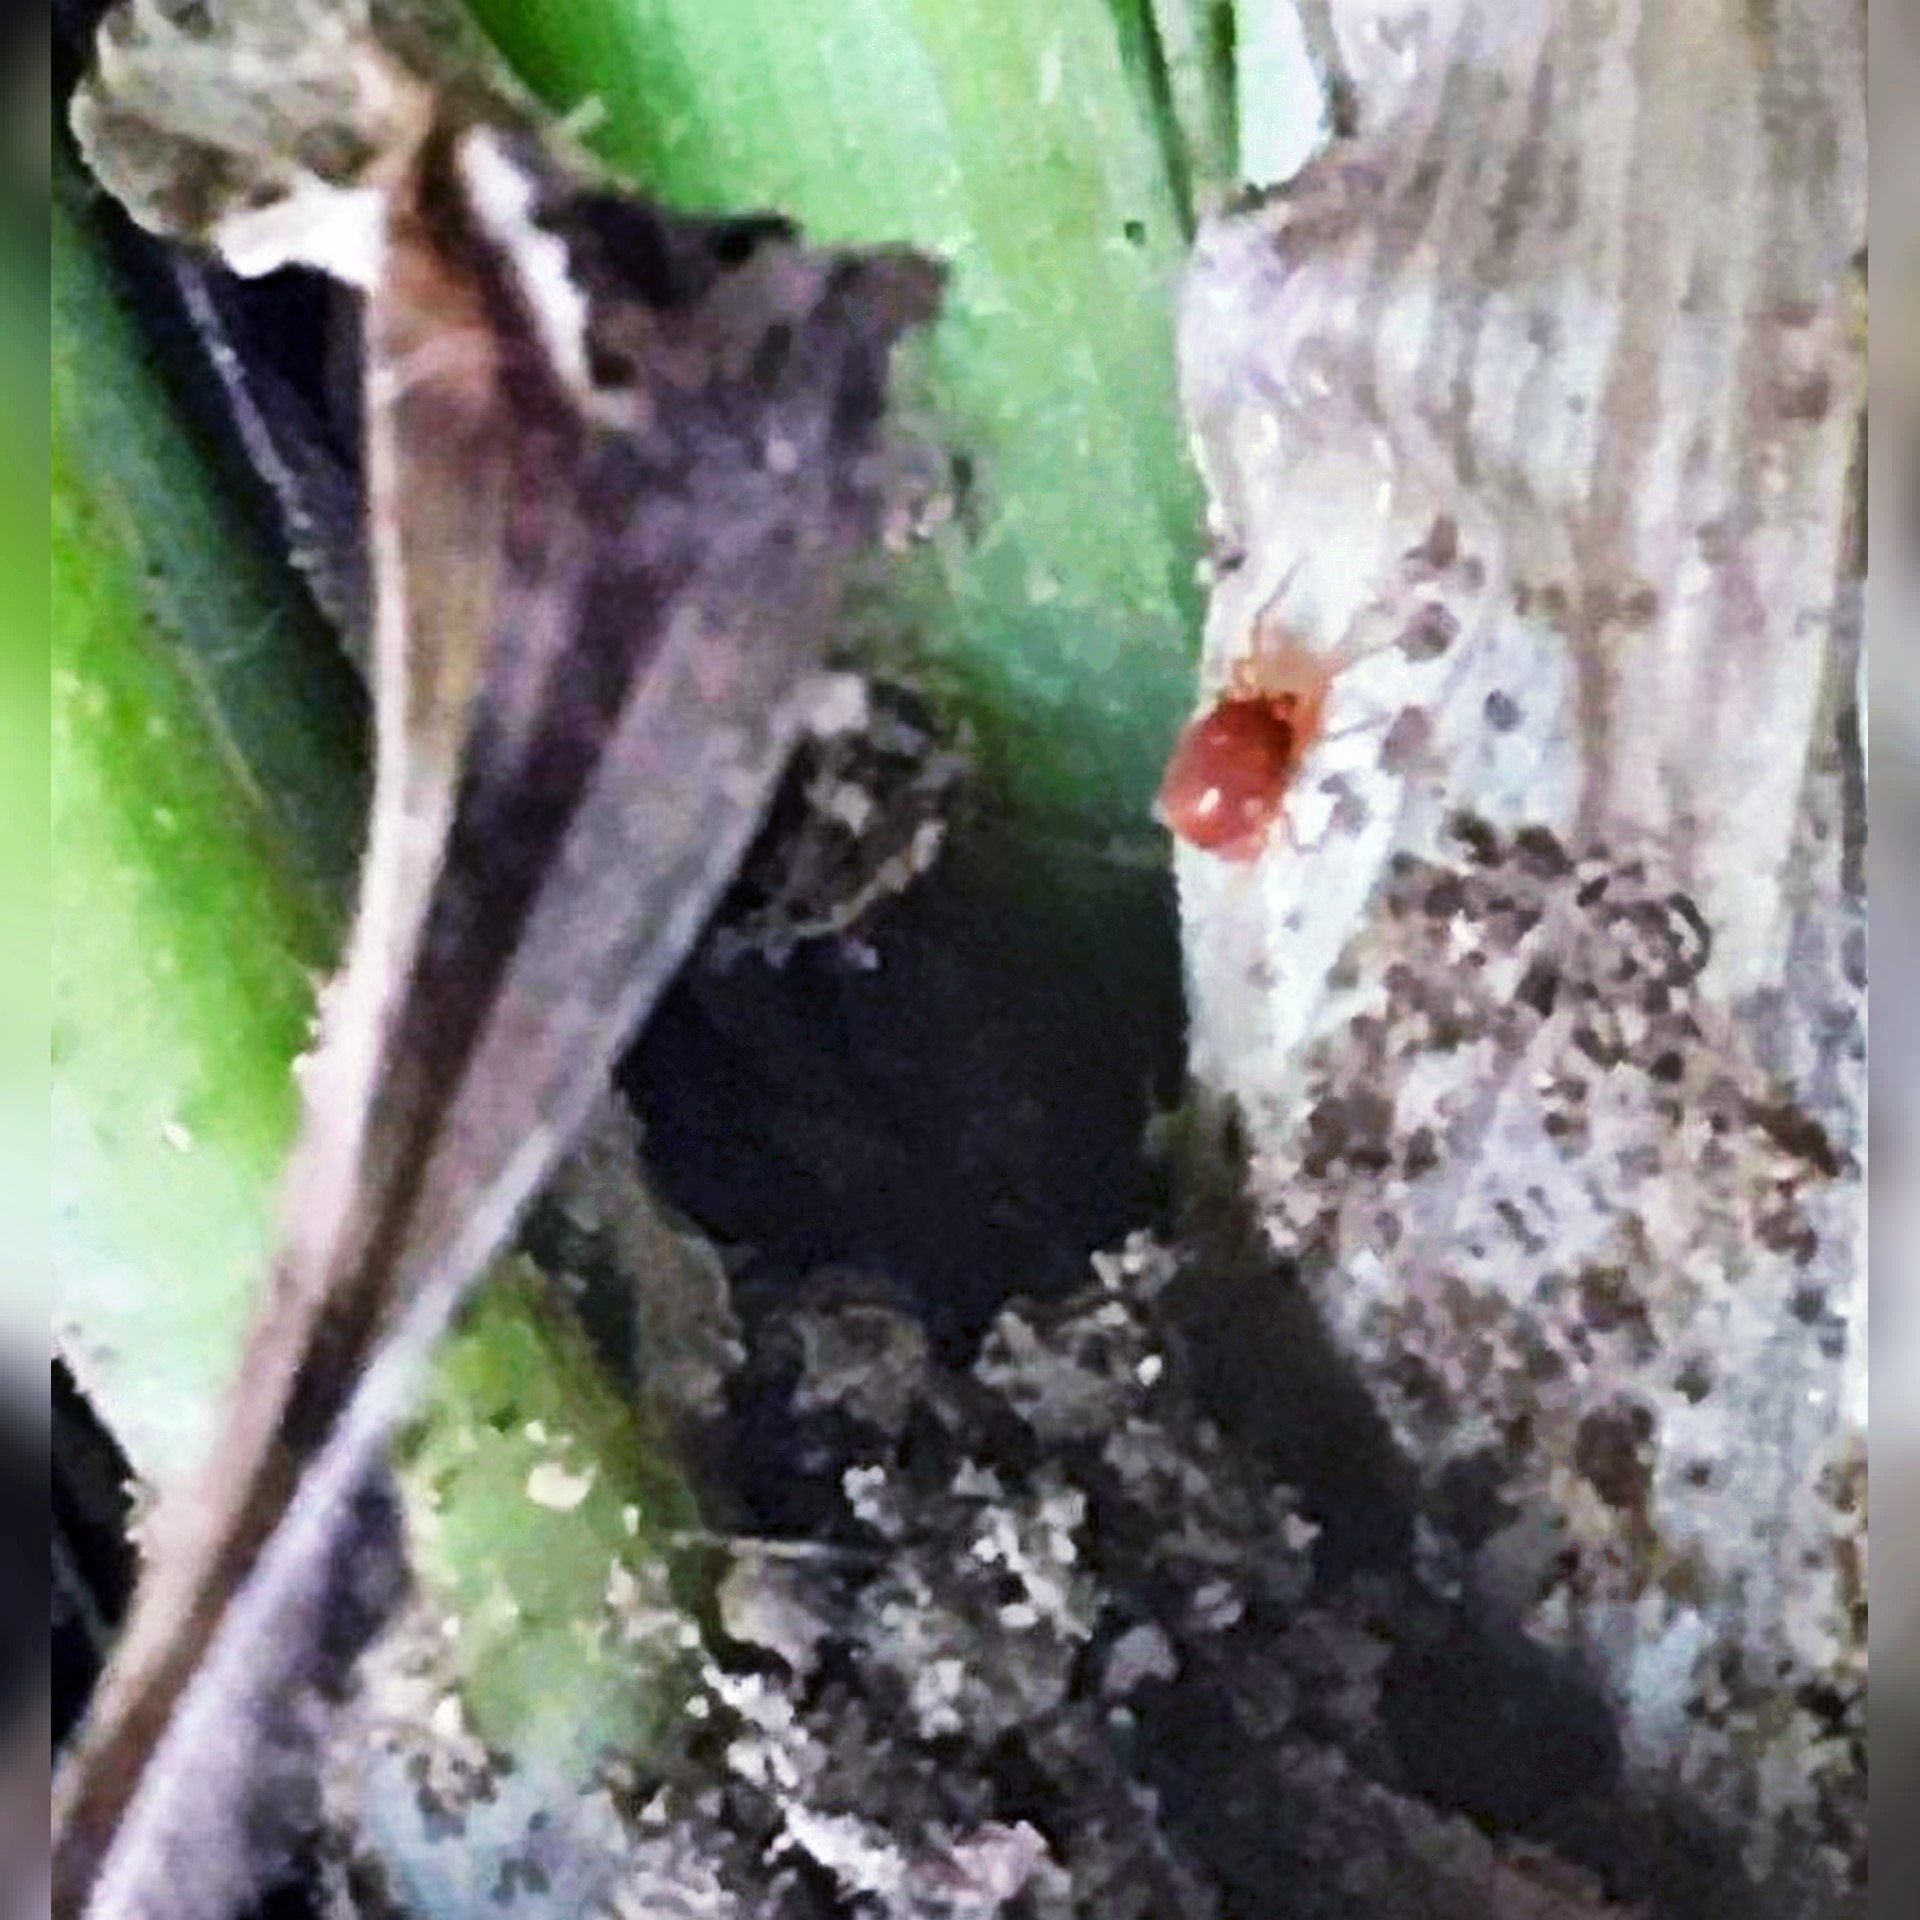Wheat Red Spider: (1143, 542, 1408, 884)
